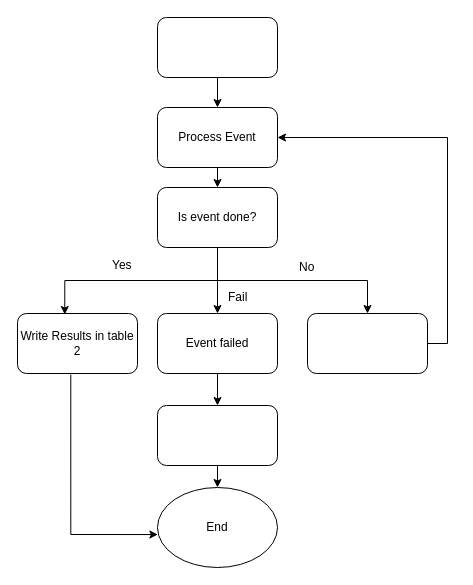
The diagram is 473 pixels wide and 585 high, and some of its shapes have lost their labels. Here are the shapes that lost their labels. From the top down, the box of each, then its label:
(156, 16, 278, 78): Read New Event from table 1
(306, 312, 428, 374): Event Still needs processing
(156, 404, 278, 466): Page Ops
